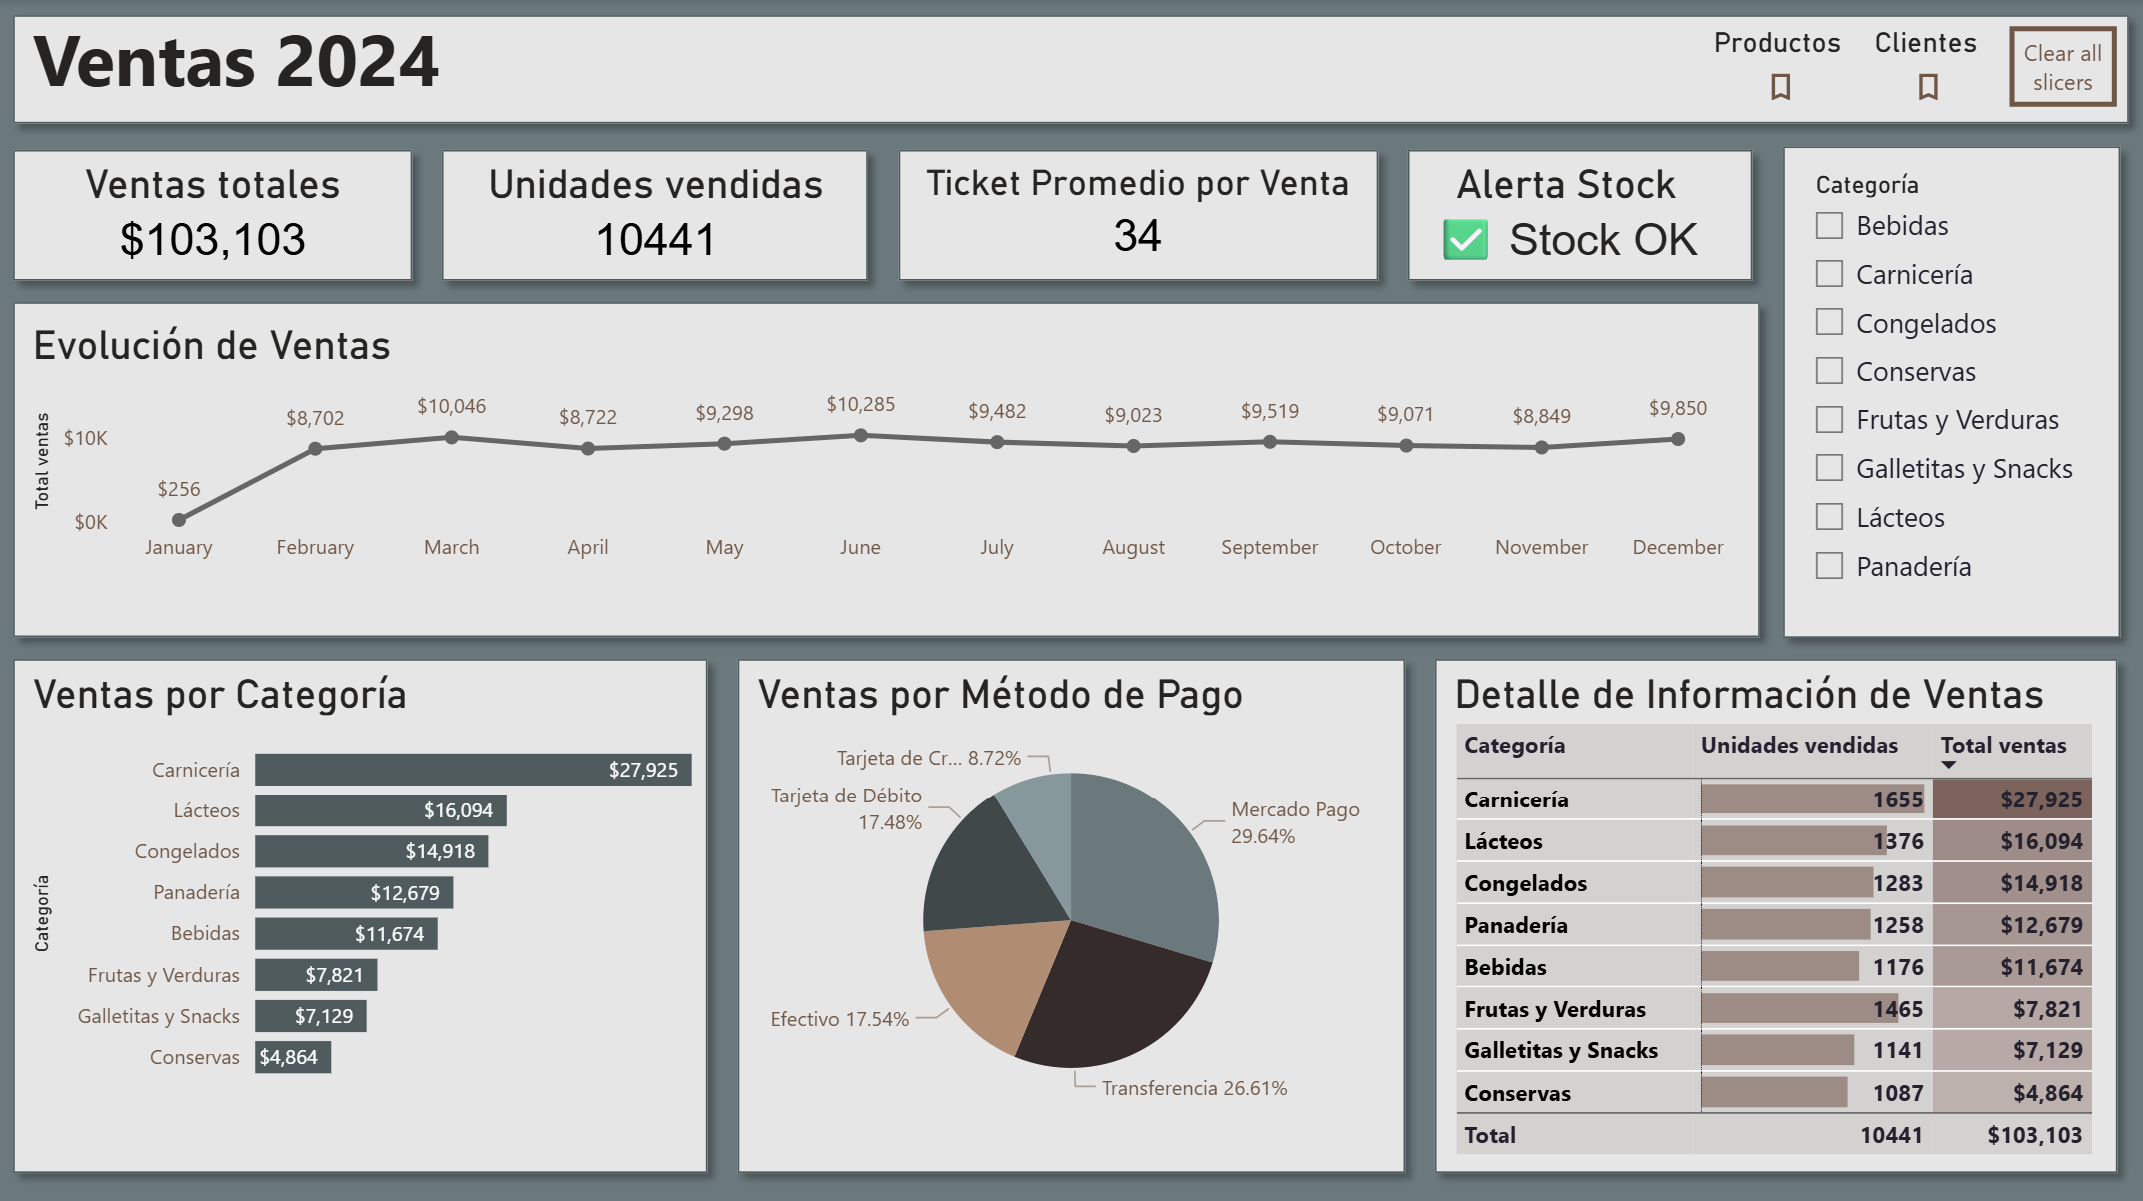

The dashboard page shown, as its layout file describes it:
{"tool":"powerbi","page":{"name":"Resumen Ejecutivo","canvas":[1280,720],"ordinal":0},"visuals":[{"type":"group","id":"g1","title":"Group 1","box":[0,0,1280,720],"z":0},{"type":"shape","box":[1056,77.8,219,311.1],"z":0,"group":"g1"},{"type":"card","title":"Ventas totales","fields":{"Values":["_Medidas.MB_Total ventas"]},"box":[0,96,256,64],"z":1000},{"type":"shape","box":[0,171.1,1060,217.8],"z":1000,"group":"g1"},{"type":"card","title":"Unidades vendidas","fields":{"Values":["_Medidas.MB_Total unidades vendidas"]},"box":[272,96,240,64],"z":2000},{"type":"shape","box":[0,384,432,325],"z":2000,"group":"g1"},{"type":"card","title":"Ticket Promedio por Venta","fields":{"Values":["_Medidas.MD_Promedio ventas"]},"box":[544,96,272,64],"z":3000},{"type":"shape","box":[848,384,425,325],"z":3000,"group":"g1"},{"type":"shape","box":[0,80,256,96],"z":4000,"group":"g1"},{"type":"lineChart","title":"Evolución de Ventas","fields":{"Y":["_Medidas.MB_Total ventas"],"Category":["Calendario.Mes"]},"box":[16,192,1024,152],"z":4000},{"type":"shape","box":[432,384,416,325],"z":5000,"group":"g1"},{"type":"clusteredBarChart","title":"Ventas por Categoría","fields":{"Category":["Categoria.Categoría"],"Y":["_Medidas.MB_Total ventas"]},"box":[16,400,448,256],"z":5000},{"type":"shape","box":[0,0,1280,82.6],"z":6000,"group":"g1"},{"type":"tableEx","title":"Detalle de Información de Ventas","fields":{"Values":["Categoria.Categoría","Sum(Ventas.Cantidad)","_Medidas.MB_Total ventas"]},"box":[864,400,400,304],"z":6000},{"type":"shape","box":[256,80,272,96],"z":7000,"group":"g1"},{"type":"pieChart","title":"Ventas por Método de Pago","fields":{"Category":["Metodo_pago.Método"],"Y":["_Medidas.MB_Total ventas"]},"box":[448,400,384,272],"z":7000},{"type":"shape","box":[528,80,304,96],"z":8000,"group":"g1"},{"type":"slicer","fields":{"Values":["Categoria.Categoría"]},"box":[1072,96,208,336],"z":8000},{"type":"shape","box":[832,80,224,96],"z":9000,"group":"g1"},{"type":"card","title":"Alerta Stock","fields":{"Values":["_Medidas.MB_Alerta Stock"]},"box":[832,96,208,64],"z":9000},{"type":"textbox","box":[16,0,800,80],"z":10000},{"type":"actionButton","title":"Clean","box":[1200,16,64,48],"z":11000},{"type":"actionButton","title":"Clientes","box":[1120,16,64,48],"z":12000},{"type":"actionButton","title":"Productos","box":[1024,16,80,48],"z":13000}]}

Visuals, with their boxes in screenshot pixels (x1, y1, x2, y2), scaled from the page's 1280x720 canvas onto the 2143x1201 screenshot:
"Group 1" group: crop(0, 0, 2142, 1200)
shape: crop(1768, 130, 2135, 649)
"Ventas totales" card: crop(0, 160, 429, 267)
shape: crop(0, 285, 1775, 649)
"Unidades vendidas" card: crop(455, 160, 857, 267)
shape: crop(0, 641, 723, 1183)
"Ticket Promedio por Venta" card: crop(911, 160, 1366, 267)
shape: crop(1420, 641, 2131, 1183)
shape: crop(0, 133, 429, 294)
"Evolución de Ventas" lineChart: crop(27, 320, 1741, 574)
shape: crop(723, 641, 1420, 1183)
"Ventas por Categoría" clusteredBarChart: crop(27, 667, 777, 1094)
shape: crop(0, 0, 2142, 138)
"Detalle de Información de Ventas" tableEx: crop(1447, 667, 2116, 1174)
shape: crop(429, 133, 884, 294)
"Ventas por Método de Pago" pieChart: crop(750, 667, 1393, 1121)
shape: crop(884, 133, 1393, 294)
slicer - Categoria.Categoría: crop(1795, 160, 2142, 721)
shape: crop(1393, 133, 1768, 294)
"Alerta Stock" card: crop(1393, 160, 1741, 267)
textbox: crop(27, 0, 1366, 133)
"Clean" actionButton: crop(2009, 27, 2116, 107)
"Clientes" actionButton: crop(1875, 27, 1982, 107)
"Productos" actionButton: crop(1714, 27, 1848, 107)
